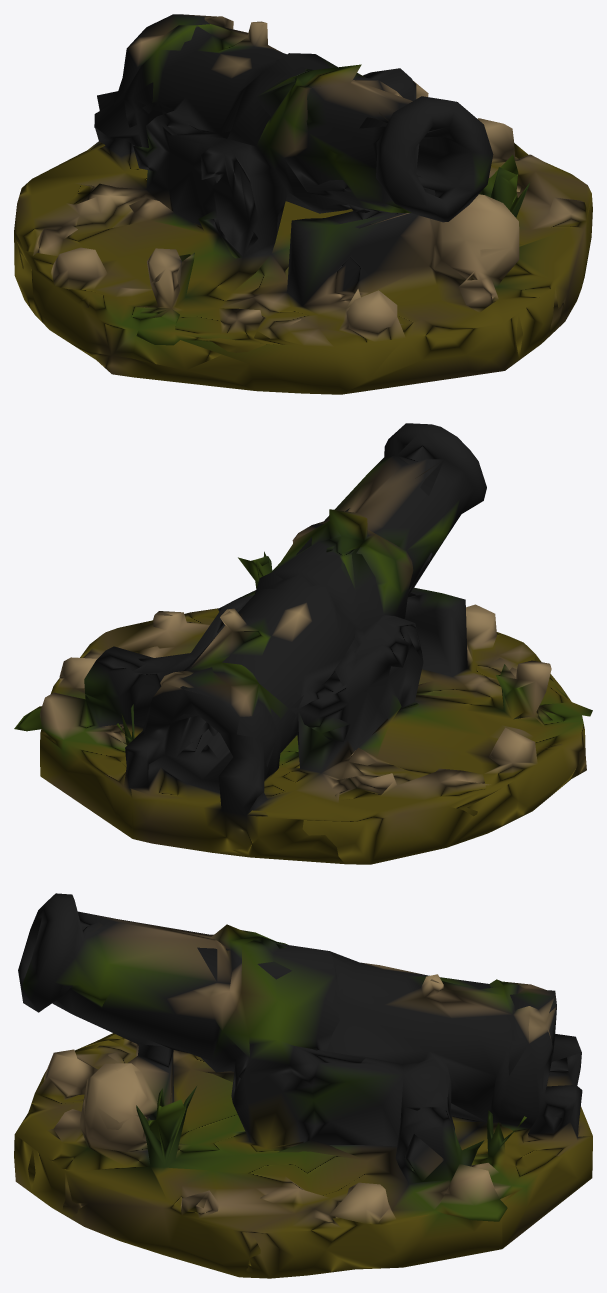
The model's file is gen3d-sunken-cannon-lod0.glb.
3 views of the same model, one above another, from view 1: azimuth 30°, elevation 25°; view 2: azimuth 150°, elevation 25°; view 3: azimuth 270°, elevation 25° (orthographic). The views are drawn at different scales.
Visible parts, largest first — view 1: part_0; view 2: part_0; view 3: part_0.
Boxes of the visible parts, bbox=[...] form: part_0: bbox=[14, 14, 592, 394]; part_0: bbox=[14, 423, 592, 864]; part_0: bbox=[14, 893, 592, 1278].
Size of the model in its own units: 2 by 1 by 2.04.
